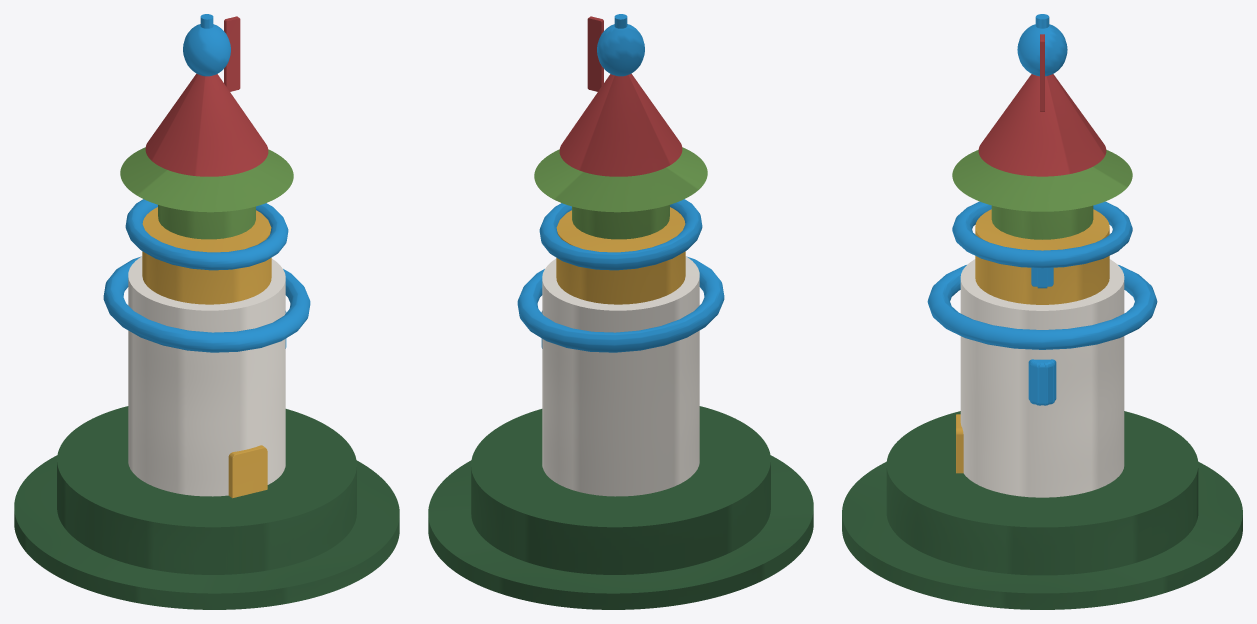
File: 0802_中国建筑图鉴_迎龙楼.glb
3 renders of one model, left to right at view 1: azimuth 30°, elevation 25°; view 2: azimuth 150°, elevation 25°; view 3: azimuth 270°, elevation 25°, orthographic.
Visible parts, largest first — view 1: card_0802; view 2: card_0802; view 3: card_0802.
Part boxes in pixels (bbox=[...]): card_0802: bbox=[14, 14, 399, 609]; card_0802: bbox=[428, 14, 813, 609]; card_0802: bbox=[842, 14, 1242, 609].
Bounding box in the file's own units: 0.6773 × 1 × 0.7091.
